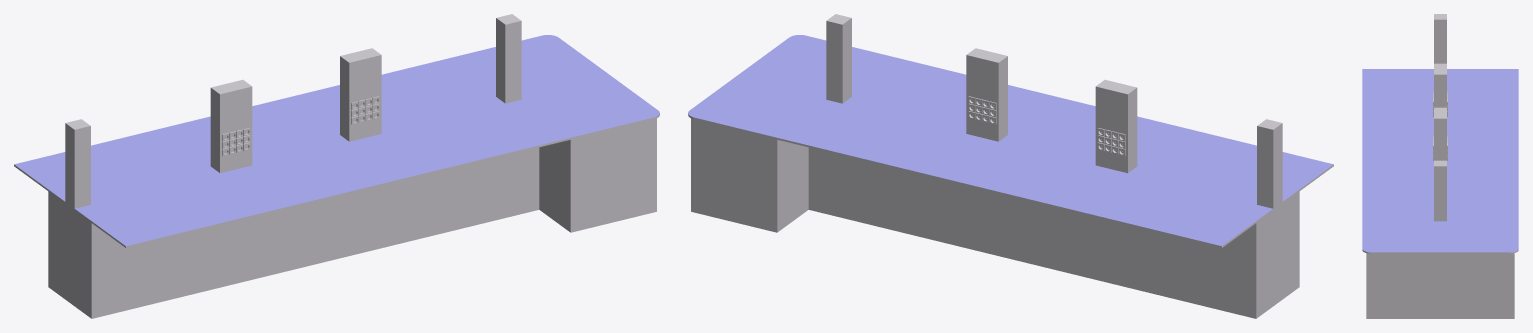
Rendered from TableBlue1fbx.fbx.
3 views of the same model, side by side, from view 1: azimuth 30°, elevation 25°; view 2: azimuth 150°, elevation 25°; view 3: azimuth 270°, elevation 25° (orthographic). The views are drawn at different scales.
Visible parts, largest first — view 1: Table; view 2: Table; view 3: Table.
Part boxes in pixels (left/top/right/bottom): Table: left=14, top=14, right=659, bottom=318; Table: left=688, top=14, right=1333, bottom=318; Table: left=1362, top=14, right=1518, bottom=318.
Size of the model in its own units: 500 by 157 by 180.
